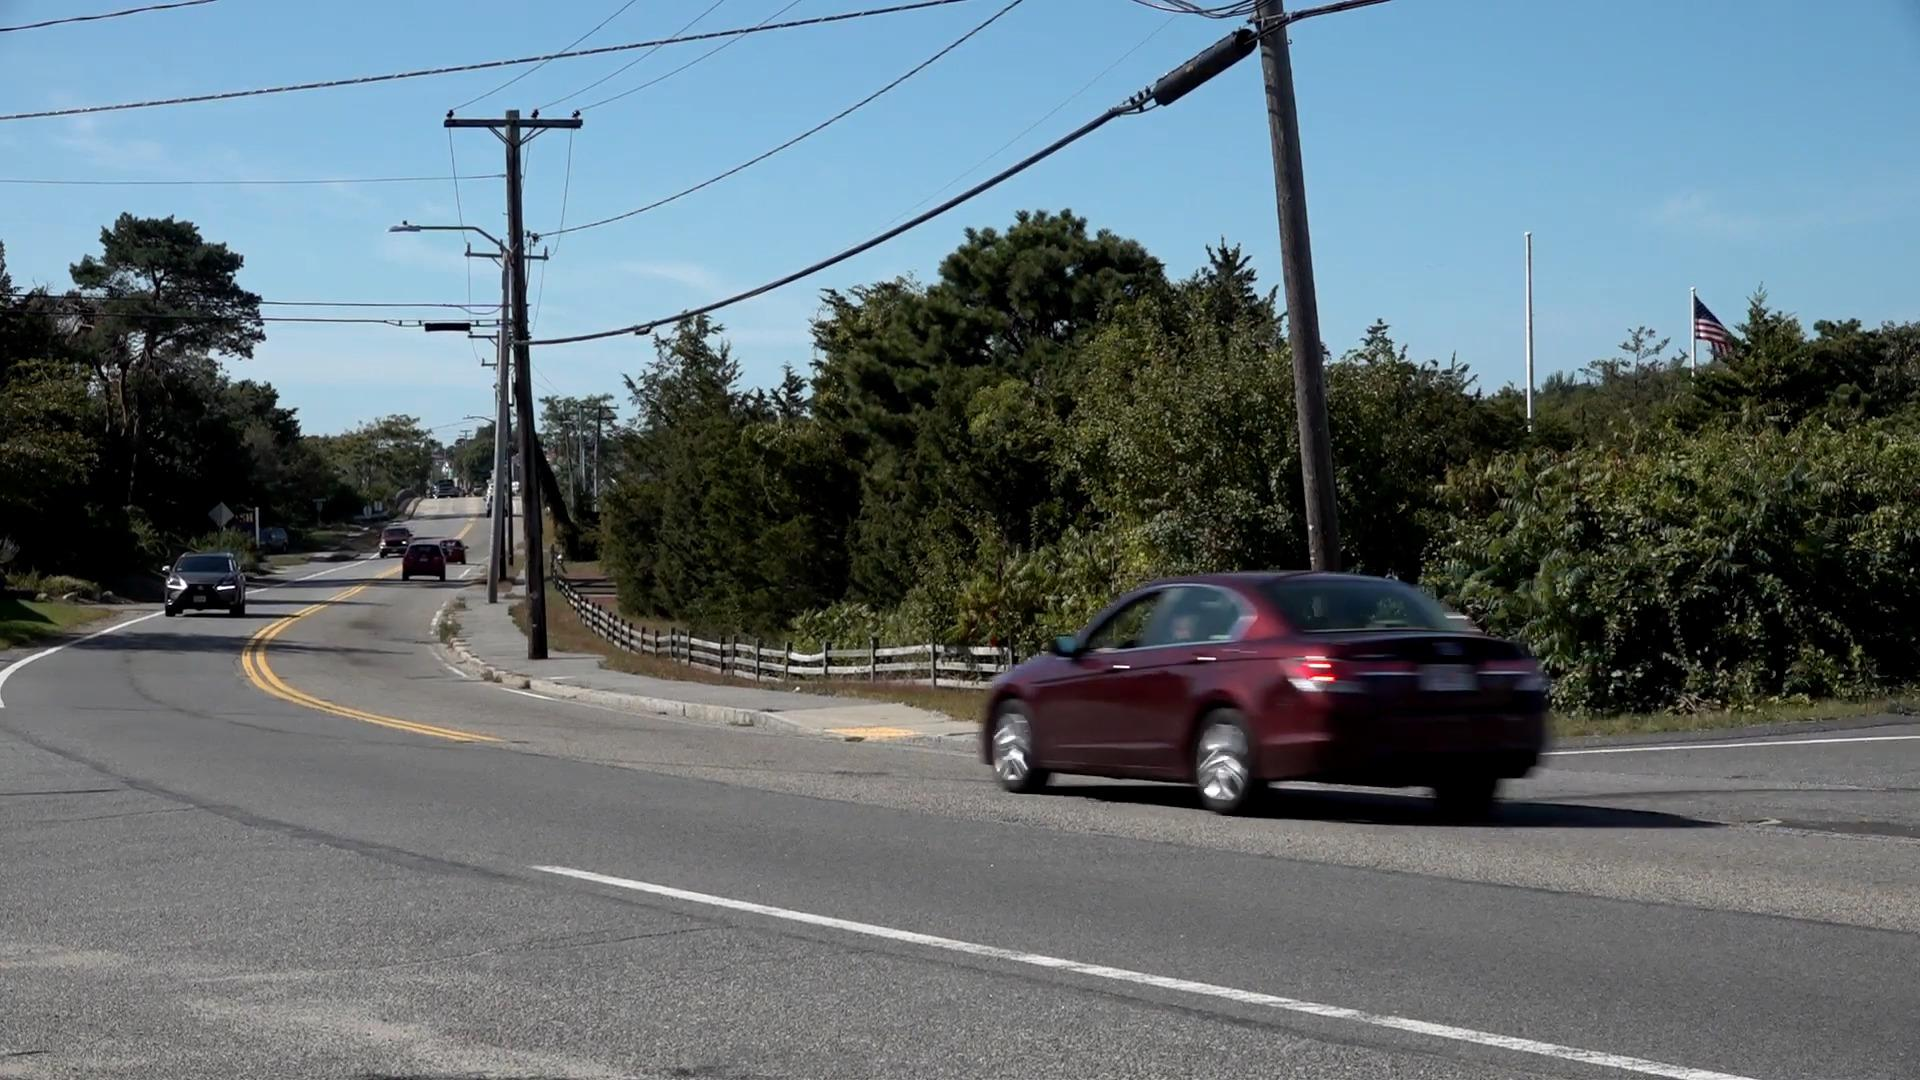sedans: (975, 564, 1552, 816)
suv: (162, 546, 251, 620)
